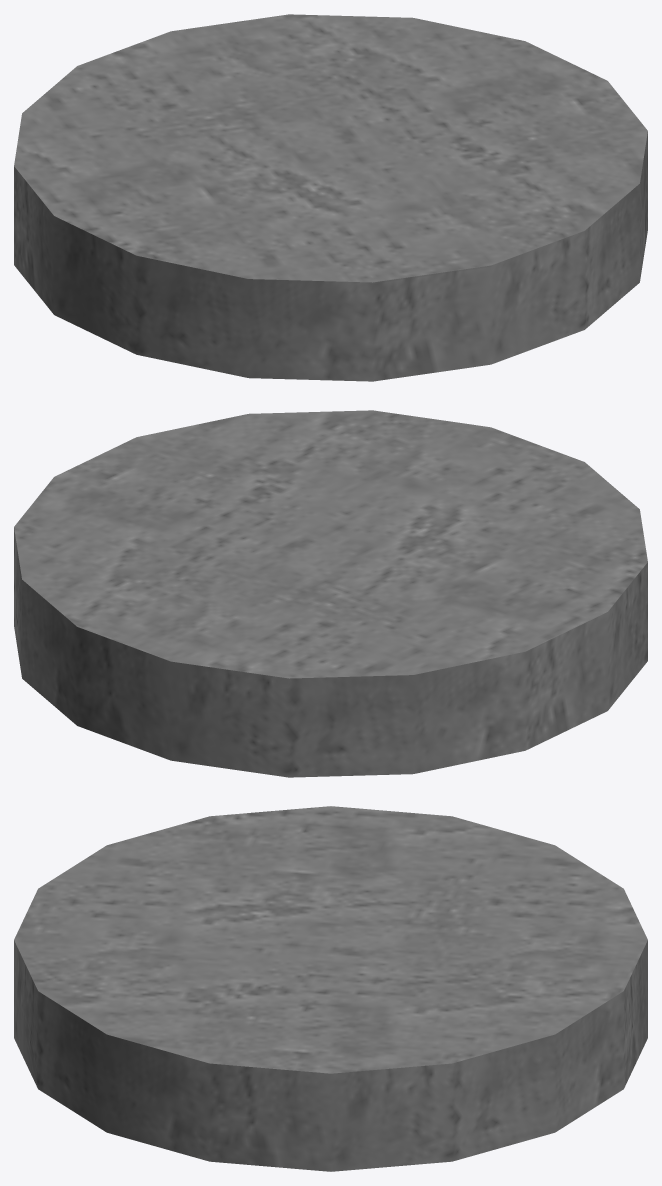
Rendered from icub_l_hip_1.dae.
3 views of the same model, one above another, from view 1: azimuth 30°, elevation 25°; view 2: azimuth 150°, elevation 25°; view 3: azimuth 270°, elevation 25° (orthographic).
Visible parts, largest first — view 1: l_hip_1_mesh; view 2: l_hip_1_mesh; view 3: l_hip_1_mesh.
Part boxes in pixels (left/top/right/bottom): l_hip_1_mesh: left=14, top=14, right=647, bottom=381; l_hip_1_mesh: left=14, top=410, right=647, bottom=777; l_hip_1_mesh: left=14, top=806, right=647, bottom=1171.
Size of the model in its own units: 0.076 by 0.0761 by 0.013.
Materials: 1 (1 with a texture image).
